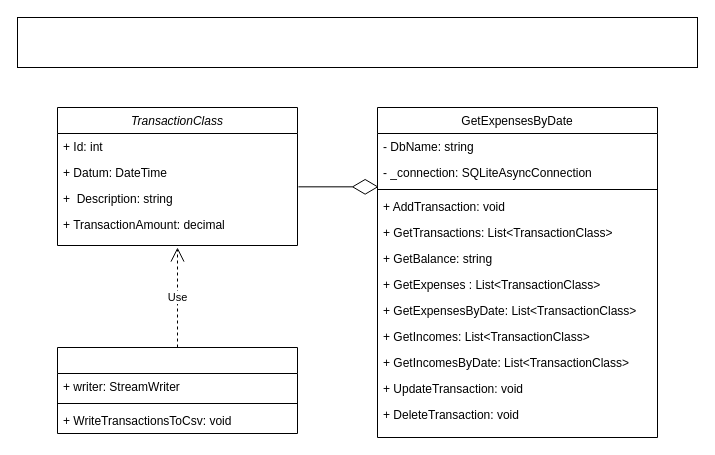
Image size: 715x455. Some labels were removed from this diagram. The box of each missing label's shape, as (x1, y1, x2, y2) in pixels:
BudgetMananger4U UML Diagram: (16, 16, 698, 68)
CsvWriter: (56, 346, 298, 434)
